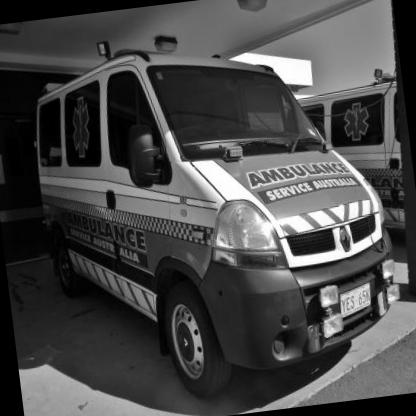ambulance: (10, 31, 414, 416)
